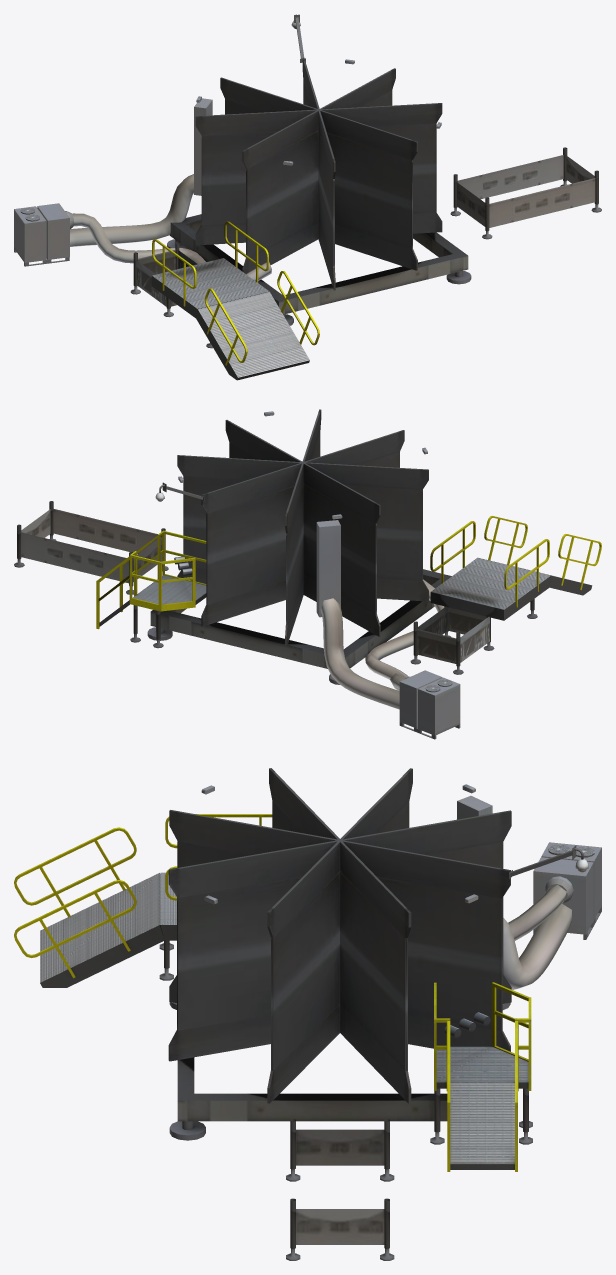
File: nasa_hdu2.glb
The picture shows the model from 3 angles, top to bottom: view 1: azimuth 30°, elevation 25°; view 2: azimuth 150°, elevation 25°; view 3: azimuth 270°, elevation 25°; orthographic projection. The views are drawn at different scales.
Parts seen in each view (by area): view 1: HDU_lowRez_part2; view 2: HDU_lowRez_part2; view 3: HDU_lowRez_part2.
Boxes of the visible parts, <box> form: HDU_lowRez_part2: <box>14,14,601,380</box>; HDU_lowRez_part2: <box>14,409,601,739</box>; HDU_lowRez_part2: <box>14,768,601,1260</box>.
Size of the model in its own units: 656 by 226 by 459.
Materials: 1 (1 with a texture image).
